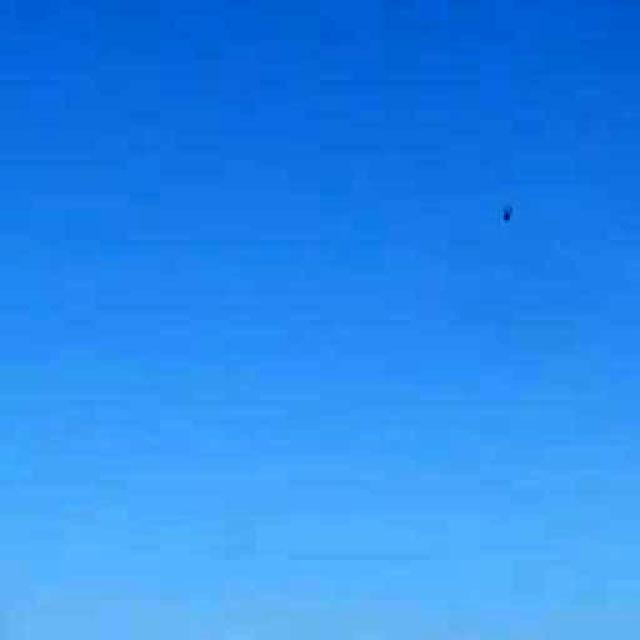drone: (475, 176, 539, 246)
